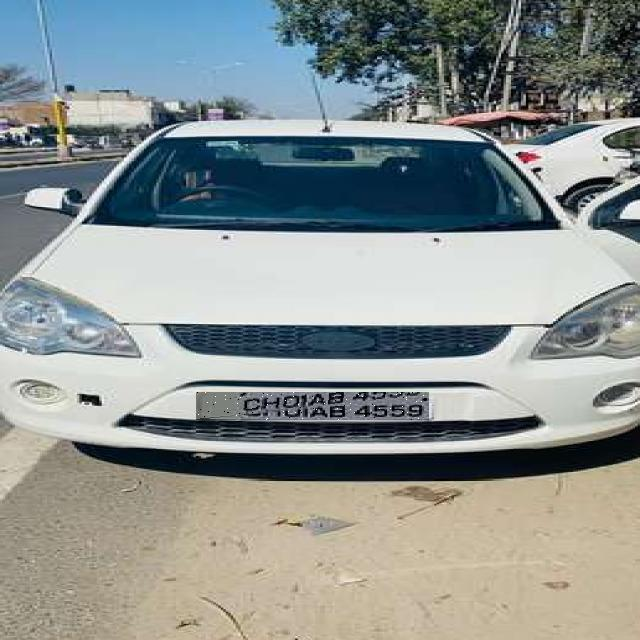Plate: (197, 393, 430, 421)
